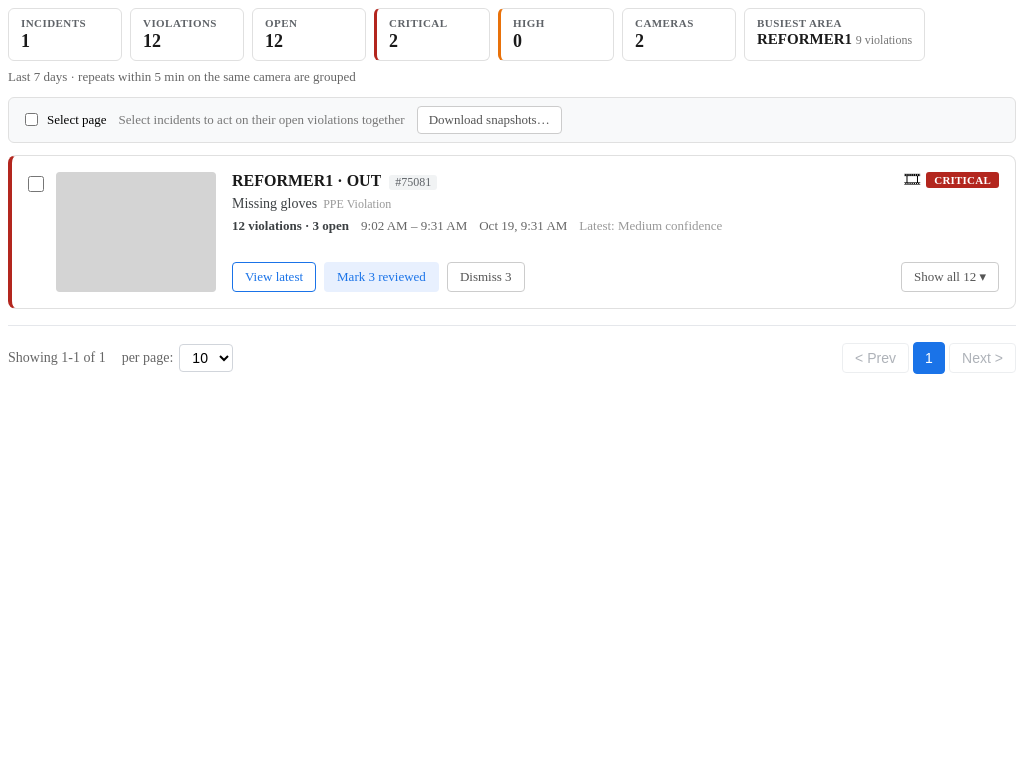
Scenario: AlertsList actions go through POST /violations/bulk › Mark reviewed confirms the count and reports skips on the card
Click the button "Mark 3 reviewed". click: (382, 277)
box: [324,262,439,292]
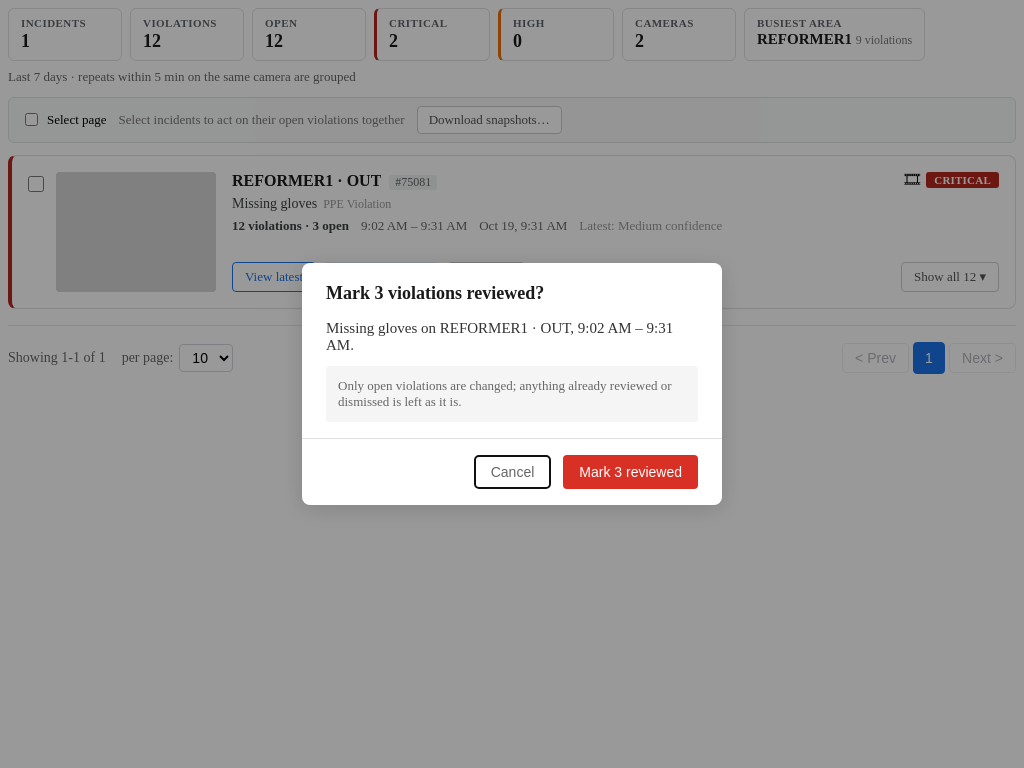
Check: the dialog shows "Mark 3 violations reviewed?", box [326,283,544,303]
Click the button "Mark 3 reviewed". click: (631, 472)
box: [563,455,698,489]
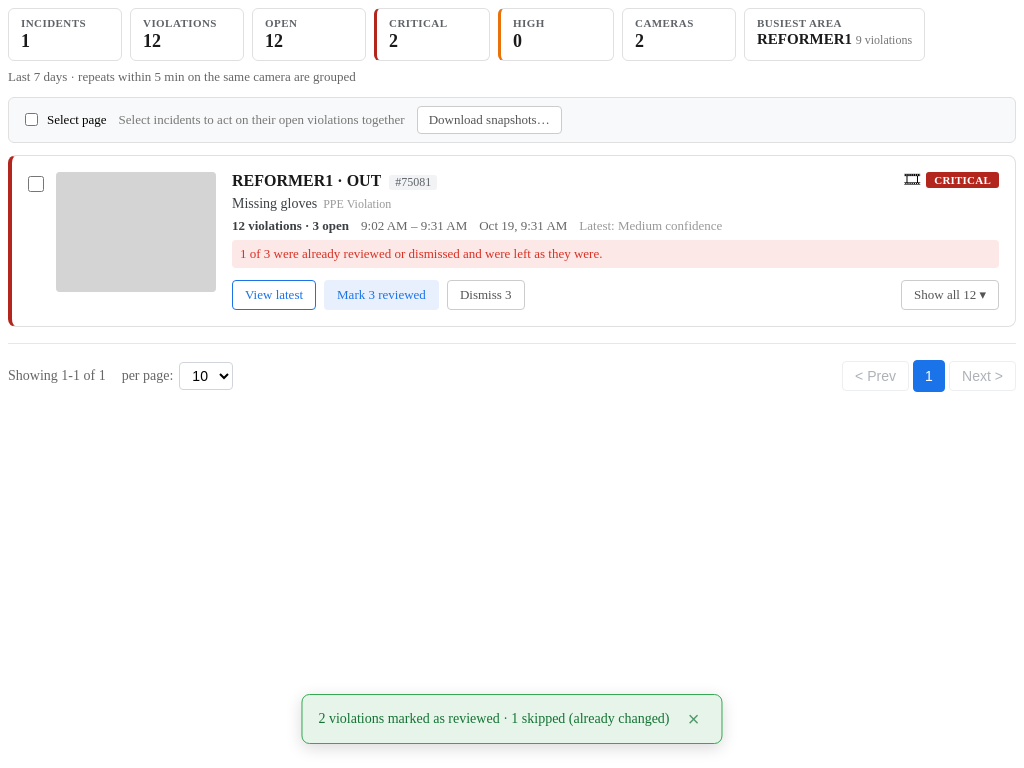
Check: the message with class "incident-card__error" shows "1 of 3 were already", box [240,246,602,261]
